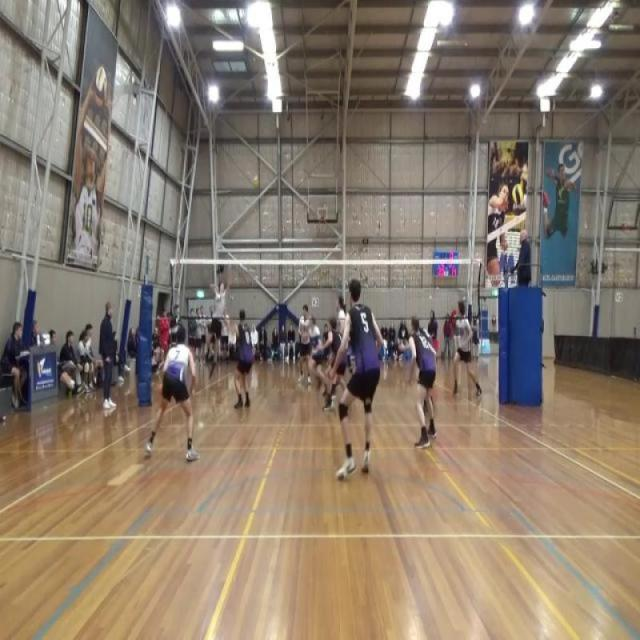volleyball: (94, 64, 107, 109), (511, 182, 525, 206), (252, 176, 260, 189)
